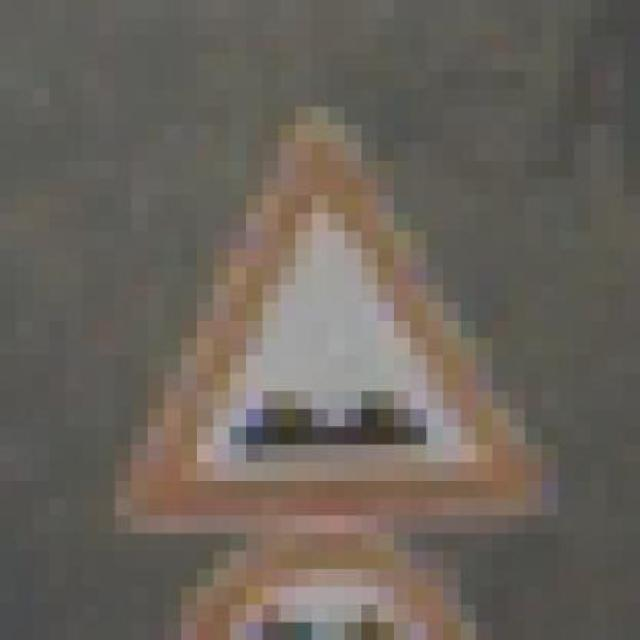Uneven Road: (115, 106, 558, 534)
